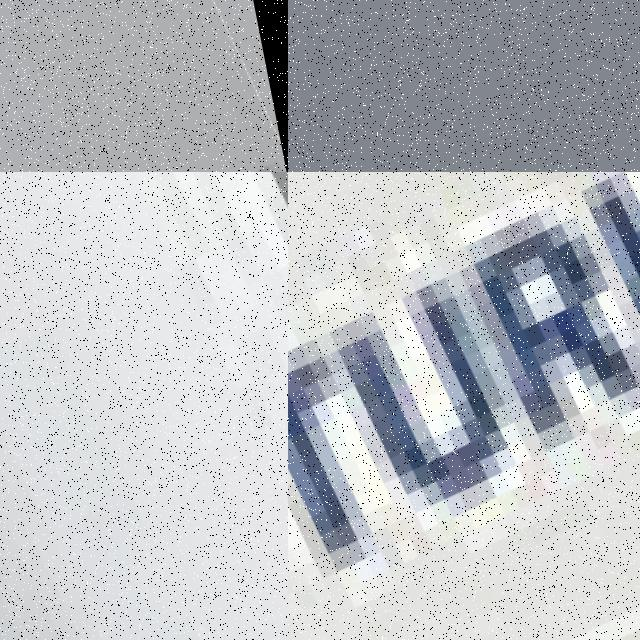0: (0, 0, 288, 172)
drone: (288, 172, 640, 640), (0, 172, 288, 640)
